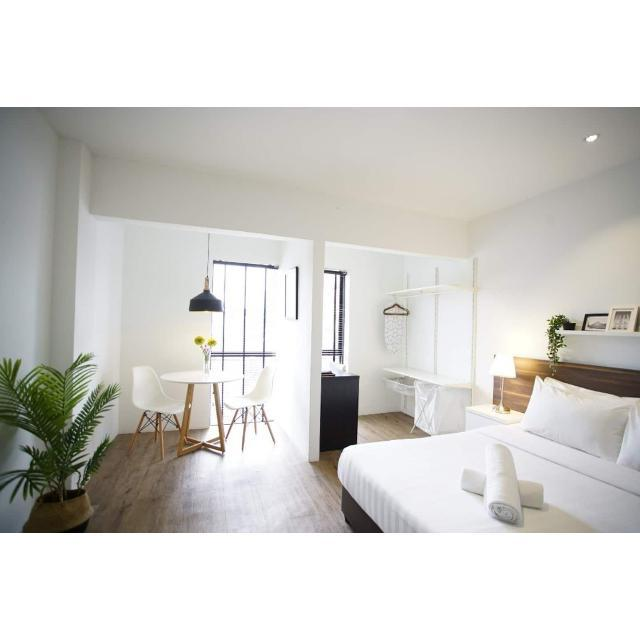chair: (124, 367, 183, 458), (222, 363, 283, 448)
pillow: (520, 375, 635, 459)
